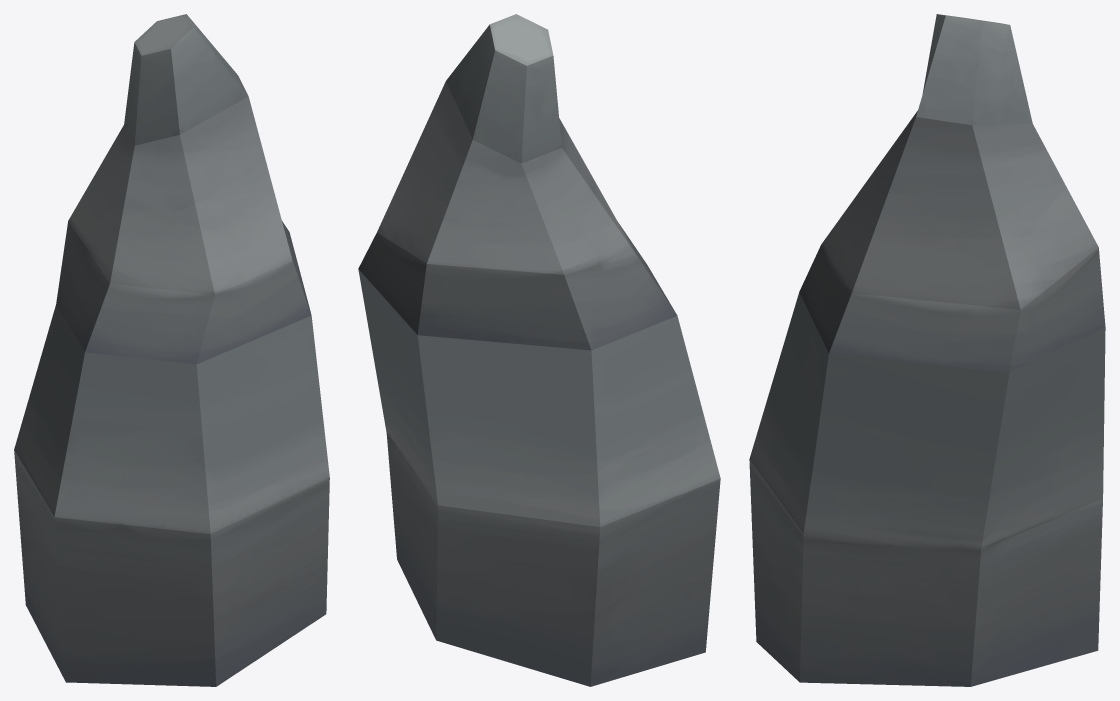
The model's file is stone2.fbx.
3 views of the same model, side by side, from view 1: azimuth 30°, elevation 25°; view 2: azimuth 150°, elevation 25°; view 3: azimuth 270°, elevation 25° (orthographic). The views are drawn at different scales.
Parts seen in each view (by area): view 1: SM_SeaBox.031; view 2: SM_SeaBox.031; view 3: SM_SeaBox.031.
Boxes of the visible parts, x1=… form: SM_SeaBox.031: x1=14, y1=14, x2=329, y2=686; SM_SeaBox.031: x1=358, y1=14, x2=720, y2=686; SM_SeaBox.031: x1=749, y1=14, x2=1105, y2=686.
Size of the model in its own units: 1197 by 2337 by 1117.
1 material, 1 textured.
